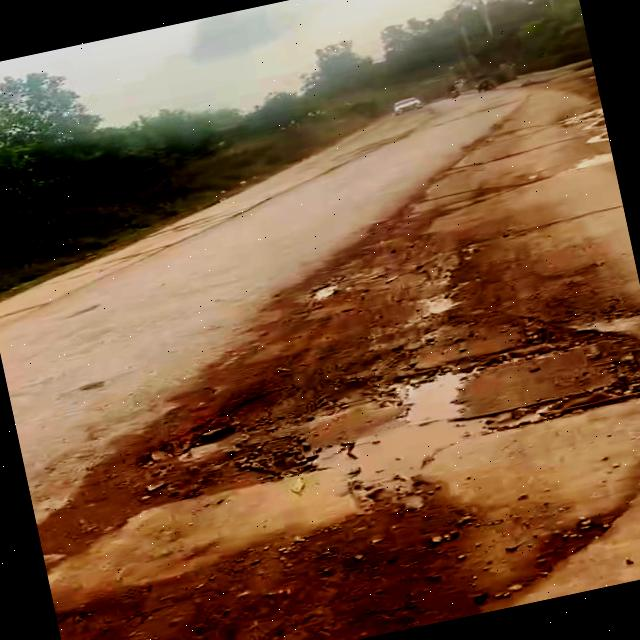pothole: (291, 306, 640, 517)
